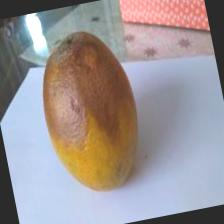Orange Rotten: (24, 11, 164, 204)
